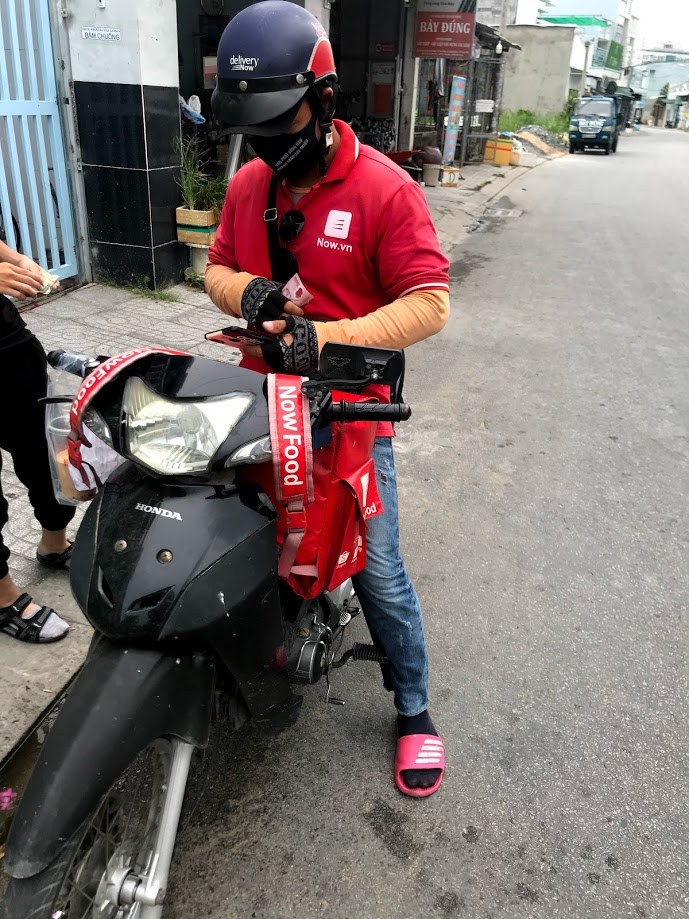dieu khien xe may: (73, 2, 390, 676)
